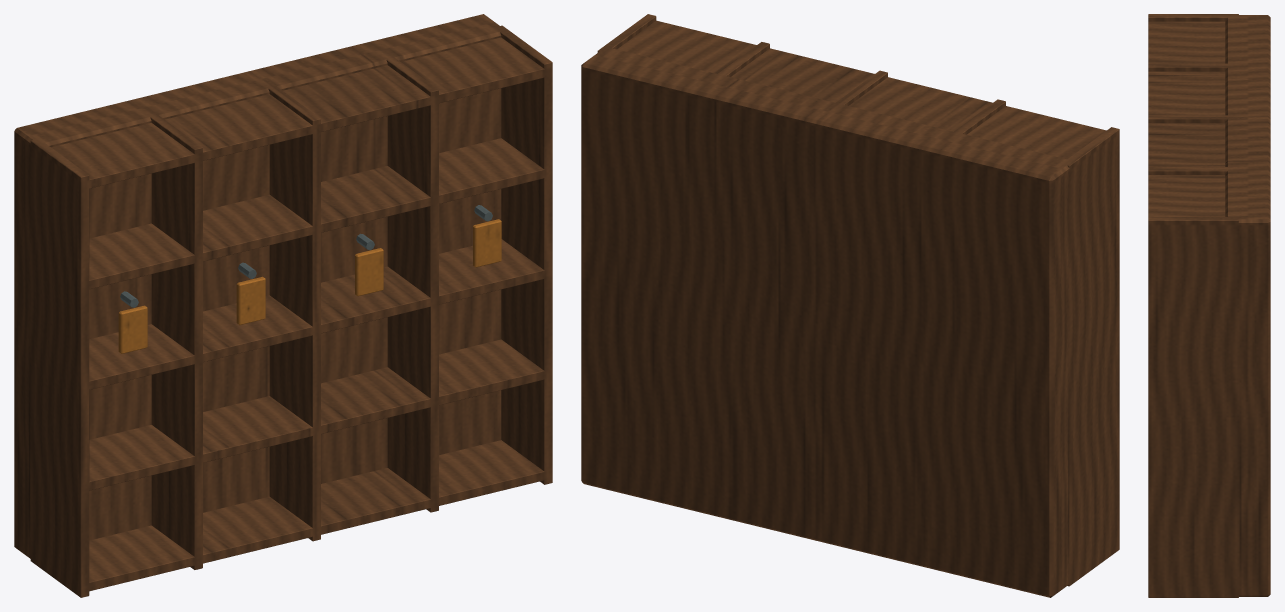
Rendered from reception_key_cubbies.glb.
3 views of the same model, side by side, from view 1: azimuth 30°, elevation 25°; view 2: azimuth 150°, elevation 25°; view 3: azimuth 270°, elevation 25° (orthographic). The views are drawn at different scales.
Visible parts, largest first — view 1: reception_key_cubbies; view 2: reception_key_cubbies; view 3: reception_key_cubbies.
Boxes of the visible parts, x1,y1,x2,y2 form: reception_key_cubbies: (14, 14, 552, 597); reception_key_cubbies: (581, 14, 1119, 597); reception_key_cubbies: (1148, 14, 1270, 597).
Bounding box in the file's own units: 1.08 × 0.92 × 0.27.
3 materials, 3 textured.
